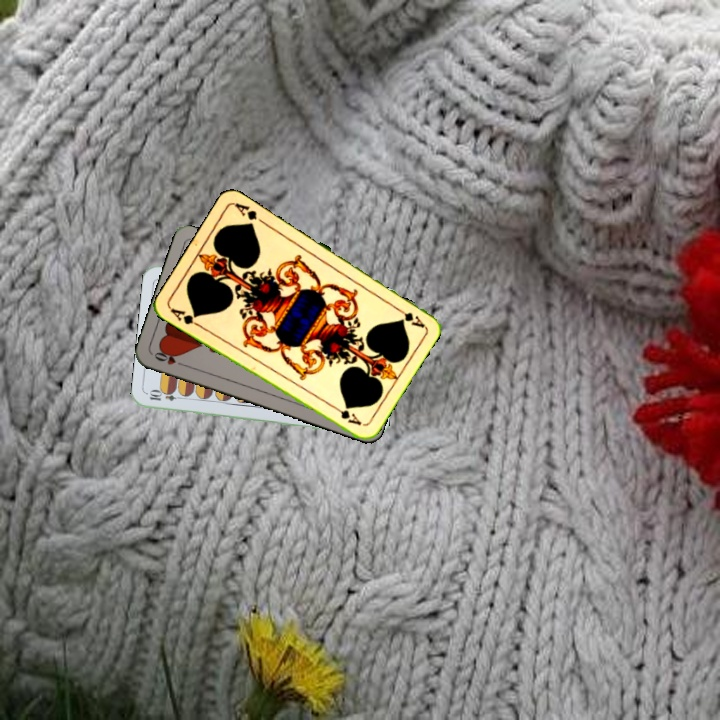E10: (145, 388, 186, 404)
GA: (390, 302, 427, 330), (166, 304, 204, 330)
HO: (150, 346, 189, 369)
